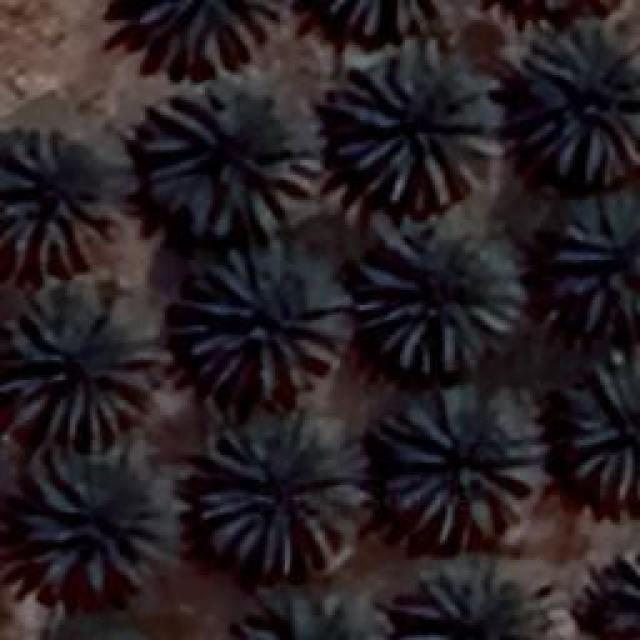PalmTree: (35, 70, 623, 593), (140, 80, 330, 238), (198, 412, 368, 578), (175, 245, 350, 400), (335, 50, 503, 210), (380, 385, 538, 550), (0, 292, 165, 450), (358, 218, 520, 372), (20, 445, 170, 593), (520, 22, 638, 182), (107, 16, 384, 70), (0, 137, 102, 274), (550, 190, 638, 335), (400, 560, 558, 638), (132, 0, 289, 72), (568, 360, 638, 500), (238, 587, 382, 635), (480, 0, 606, 10)
